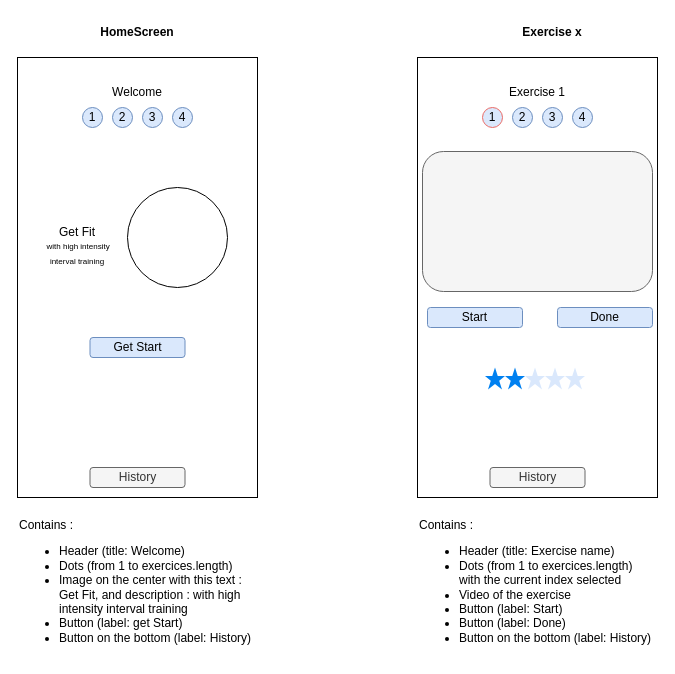
Some shapes in this 675 by 674 pixel diagram are drawn without their labels. The shapes that lost their labels are listed below. From the top down, each one's centre as x and y in pixels, then its label:
At point (177, 237): "IMAGE".
At point (537, 221): "VIDEO".
